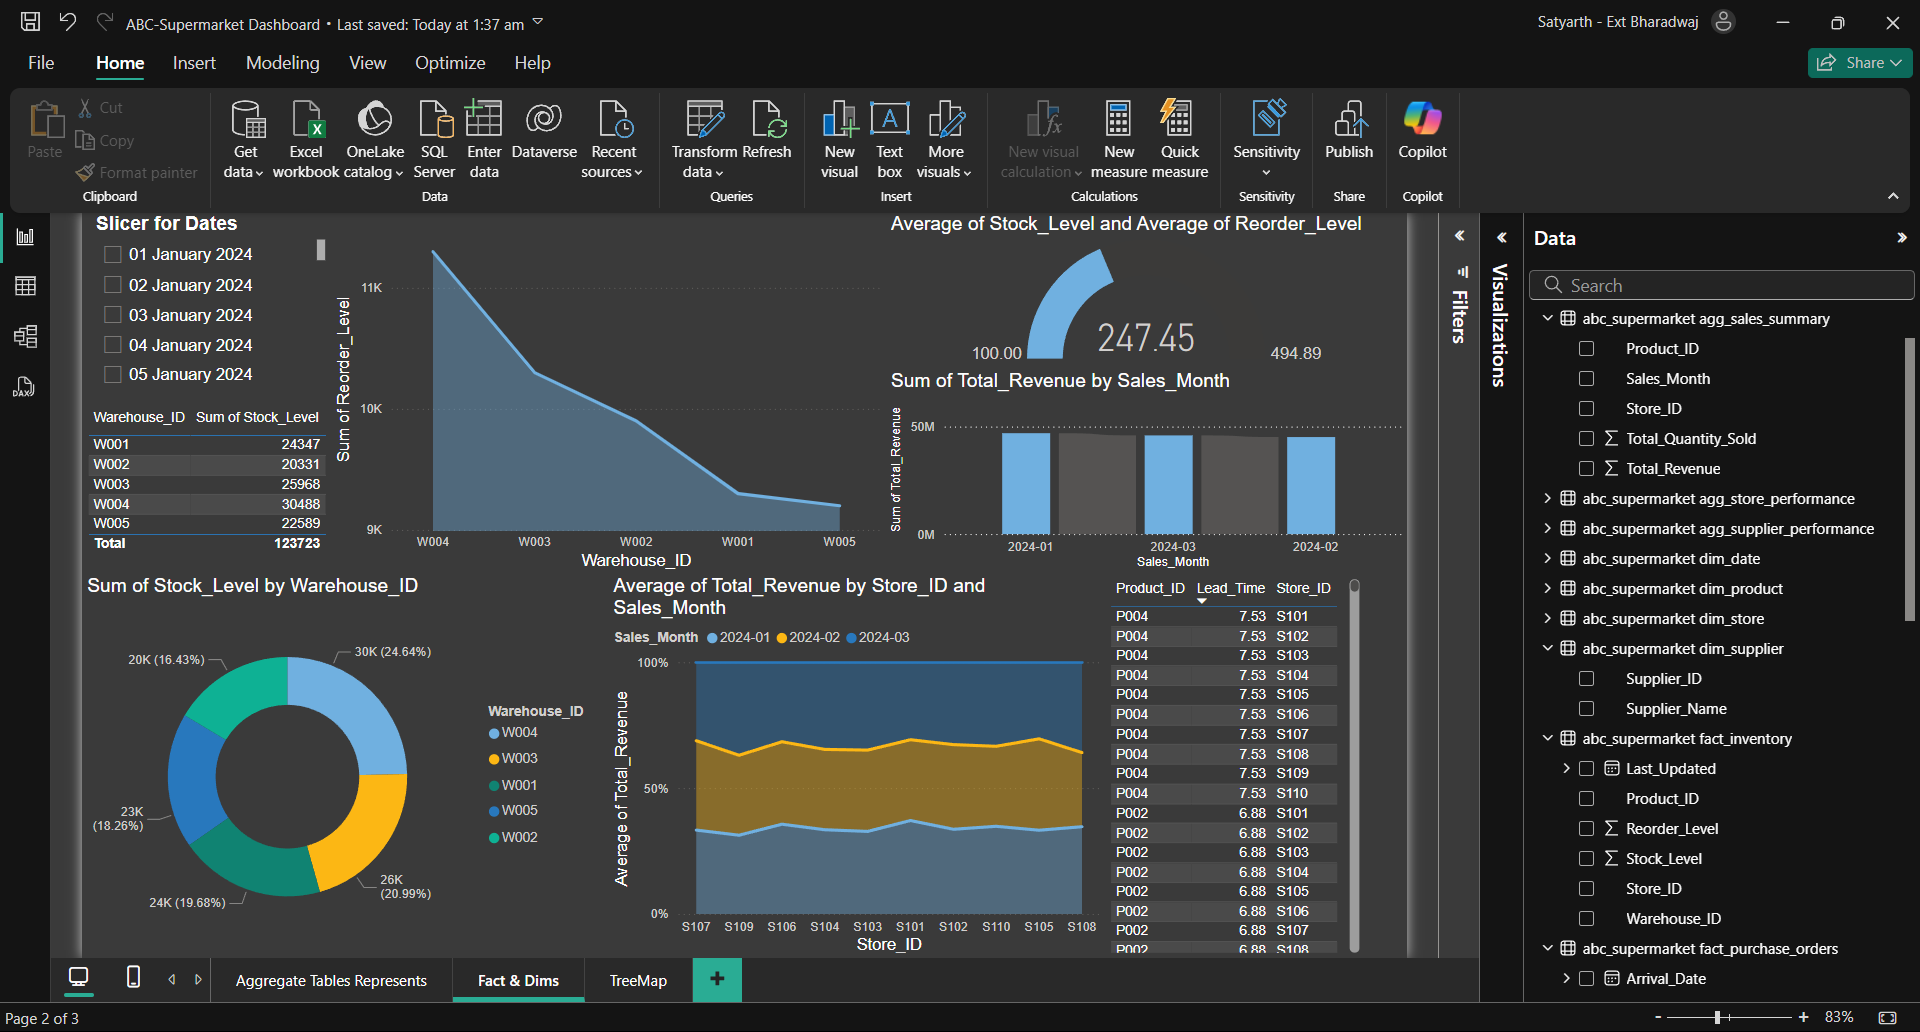

What the dashboard file says about the page in this screenshot:
{"tool":"powerbi","page":{"name":"Fact & Dims","canvas":[1280,720],"ordinal":1},"visuals":[{"type":"gauge","fields":{"Y":["Avg(abc_supermarket fact_inventory.Stock_Level)"],"MinValue":["Avg(abc_supermarket fact_inventory.Reorder_Level)"]},"box":[776.3,0,503.4,150.9],"z":0},{"type":"tableEx","fields":{"Values":["abc_supermarket fact_reorder_points.Product_ID","abc_supermarket fact_reorder_points.Lead_Time","abc_supermarket fact_reorder_points.Store_ID"]},"box":[987.5,348.9,251.1,370.6],"z":1000},{"type":"slicer","title":"Slicer for Dates","fields":{"Values":["abc_supermarket fact_inventory.Last_Updated"]},"box":[8.5,0,231.8,170.2],"z":2000},{"type":"tableEx","fields":{"Values":["abc_supermarket fact_inventory.Warehouse_ID","Sum(abc_supermarket fact_inventory.Stock_Level)"]},"box":[0,183.5,243.9,172.6],"z":3000},{"type":"areaChart","fields":{"Category":["abc_supermarket fact_inventory.Warehouse_ID"],"Y":["Sum(abc_supermarket fact_inventory.Reorder_Level)"]},"box":[240.2,0,536,348.9],"z":3001},{"type":"donutChart","fields":{"Y":["Sum(abc_supermarket fact_inventory.Stock_Level)"],"Category":["abc_supermarket fact_inventory.Warehouse_ID"]},"box":[0,348.9,508.3,370.6],"z":3002},{"type":"hundredPercentStackedAreaChart","fields":{"Category":["abc_supermarket agg_sales_summary.Store_ID"],"Y":["Avg(abc_supermarket agg_sales_summary.Total_Revenue)"],"Series":["abc_supermarket agg_sales_summary.Sales_Month"]},"box":[508.3,348.9,479.3,370.6],"z":3003},{"type":"ribbonChart","fields":{"Category":["abc_supermarket agg_sales_summary.Sales_Month"],"Y":["Sum(abc_supermarket agg_sales_summary.Total_Revenue)"]},"box":[776,151,503,198],"z":3004}]}

Visuals, with their boxes on the page's 1280x720 design canvas (x1, y1, x2, y2). These are canvas units, not pixel positions in the 1920x1032 screenshot, which may show the page scaled, cropped or inside an application window:
gauge - Avg(abc_supermarket fact_inventory.Stock_Level) x Avg(abc_supermarket fact_inventory.Reorder_Level): [x1=776, y1=0, x2=1280, y2=151]
tableEx - abc_supermarket fact_reorder_points.Product_ID x abc_supermarket fact_reorder_points.Lead_Time: [x1=988, y1=349, x2=1239, y2=720]
"Slicer for Dates" slicer: [x1=8, y1=0, x2=240, y2=170]
tableEx - abc_supermarket fact_inventory.Warehouse_ID x Sum(abc_supermarket fact_inventory.Stock_Level): [x1=0, y1=184, x2=244, y2=356]
areaChart - abc_supermarket fact_inventory.Warehouse_ID x Sum(abc_supermarket fact_inventory.Reorder_Level): [x1=240, y1=0, x2=776, y2=349]
donutChart - Sum(abc_supermarket fact_inventory.Stock_Level) x abc_supermarket fact_inventory.Warehouse_ID: [x1=0, y1=349, x2=508, y2=720]
hundredPercentStackedAreaChart - abc_supermarket agg_sales_summary.Store_ID x Avg(abc_supermarket agg_sales_summary.Total_Revenue): [x1=508, y1=349, x2=988, y2=720]
ribbonChart - abc_supermarket agg_sales_summary.Sales_Month x Sum(abc_supermarket agg_sales_summary.Total_Revenue): [x1=776, y1=151, x2=1279, y2=349]
